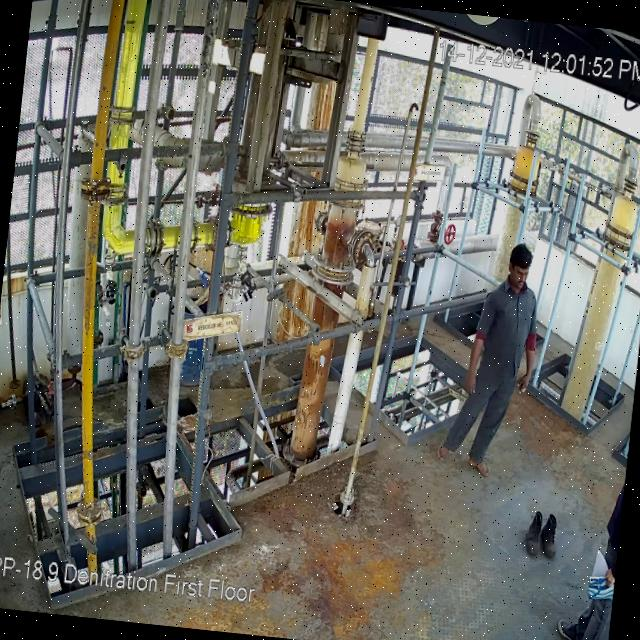boots: (536, 509, 564, 567), (520, 508, 544, 556)
no-boots: (465, 449, 493, 478)
